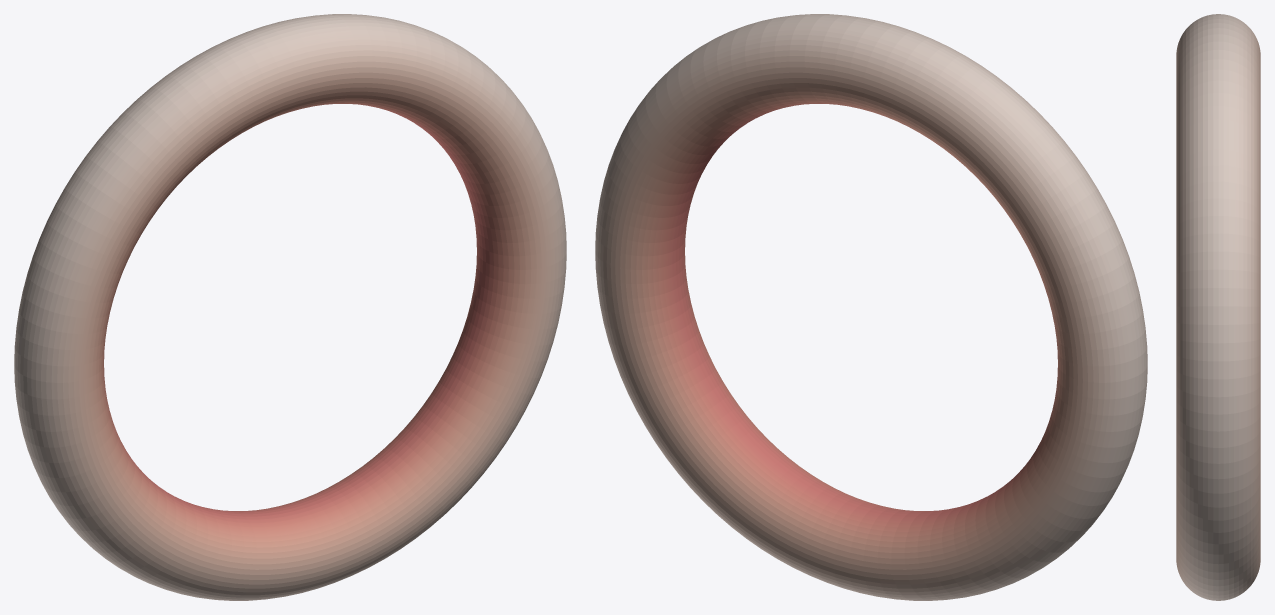
The picture shows the model from 3 angles, left to right: view 1: azimuth 30°, elevation 25°; view 2: azimuth 150°, elevation 25°; view 3: azimuth 270°, elevation 25°; orthographic projection. The views are drawn at different scales.
Visible parts, largest first — view 1: world; view 2: world; view 3: world.
Part boxes in pixels (bbox=[...]): world: bbox=[14, 14, 566, 600]; world: bbox=[595, 14, 1147, 600]; world: bbox=[1176, 14, 1260, 600].
Size of the model in its own units: 34.27 by 34.27 by 4.92.
